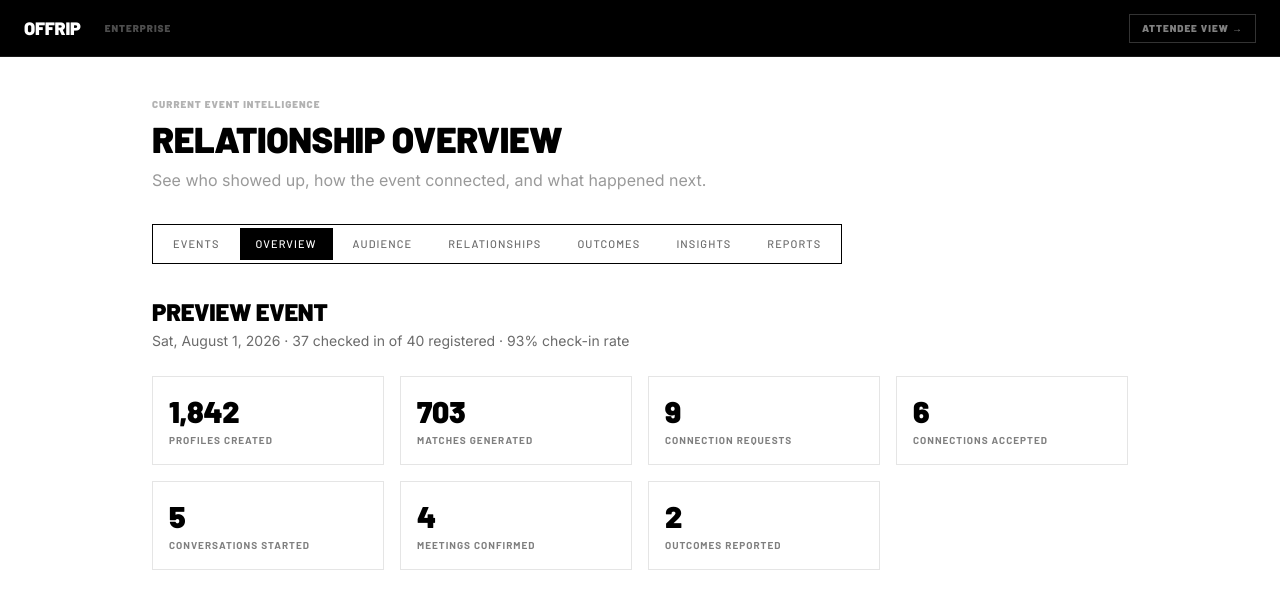
Test: OrganizerAdmin — enterprise tabs › renders the Relationships tab patterns
Expected: the text "PROFILES CREATED" is shown, [169, 434, 273, 446]
Press the mouse on the tab "Relationships" at x=495, y=244, box [432, 228, 557, 260]
(page scrolled)
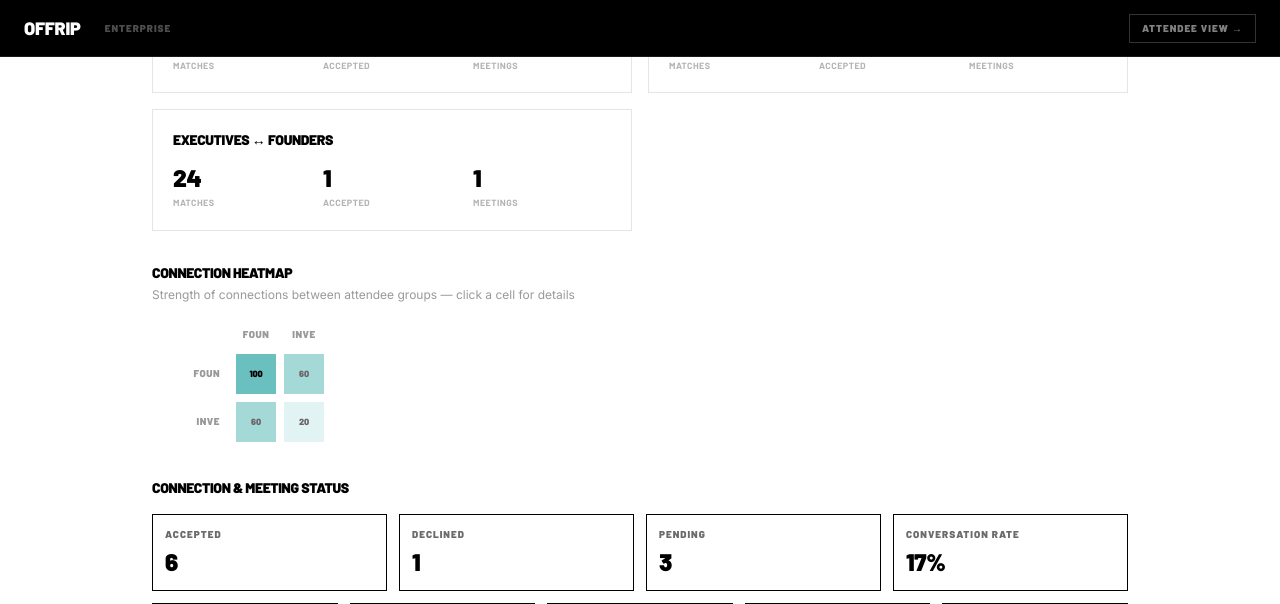
Result: the text "CONNECTION HEATMAP" is shown at [152, 264, 292, 280]
Result: the text "CONNECTION & MEETING STATUS" is shown at [152, 478, 349, 496]
